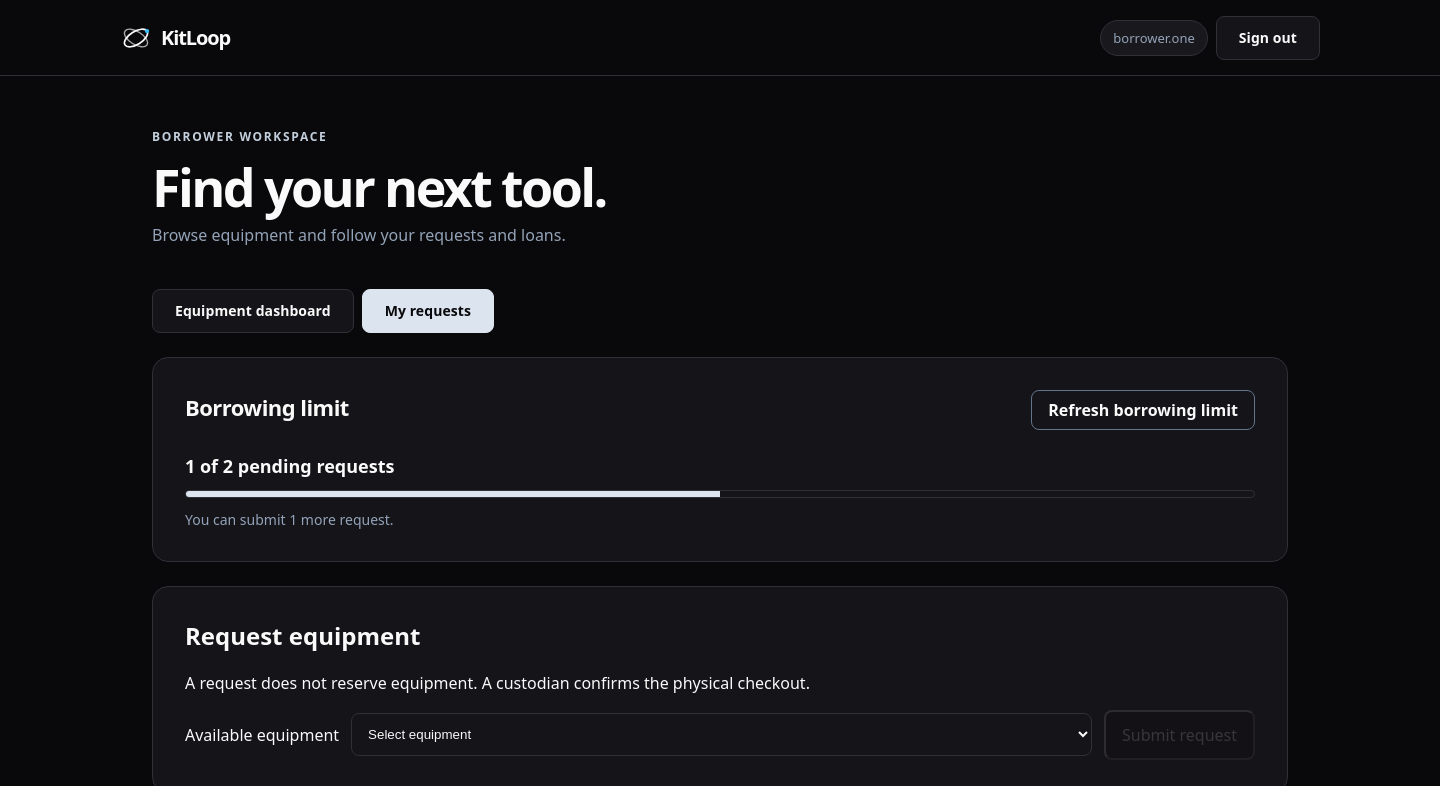
it: CR-01 pending-request quota UI (AC11 / TC11) › Q06 AC11-S6: a stale-state 409 BORROWING_QUOTA_EXCEEDED shows the server message and re-reads quota, catalog, requests and loans
The image size is (1440, 786).
Select "Camera · CAM-01" in the dropdown labelled "Available equipment". click: (722, 735)
box: [351, 713, 1092, 756]
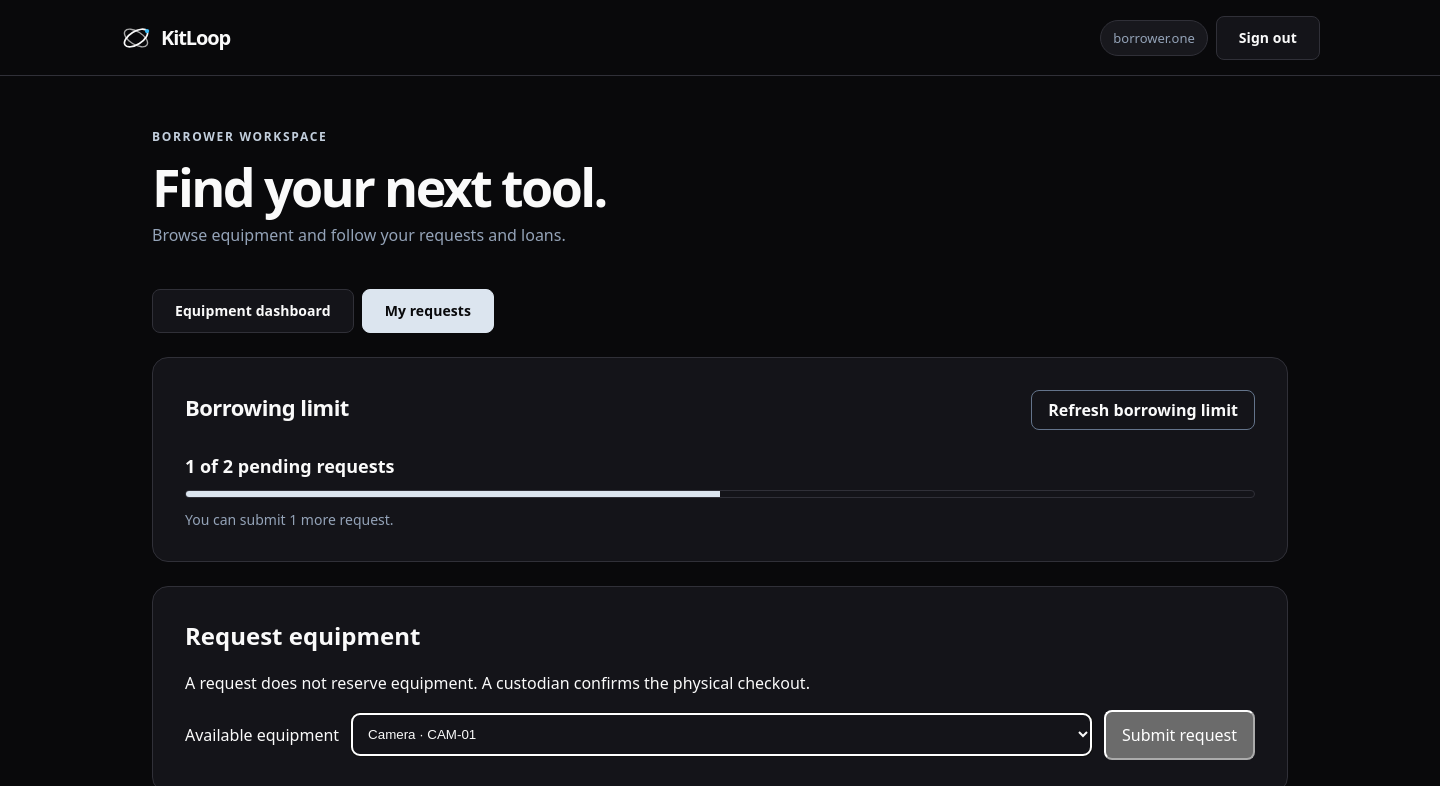
expect the button "Submit request" is enabled: met
Click the button "Submit request". click: click(1180, 735)
box: [1104, 710, 1255, 760]
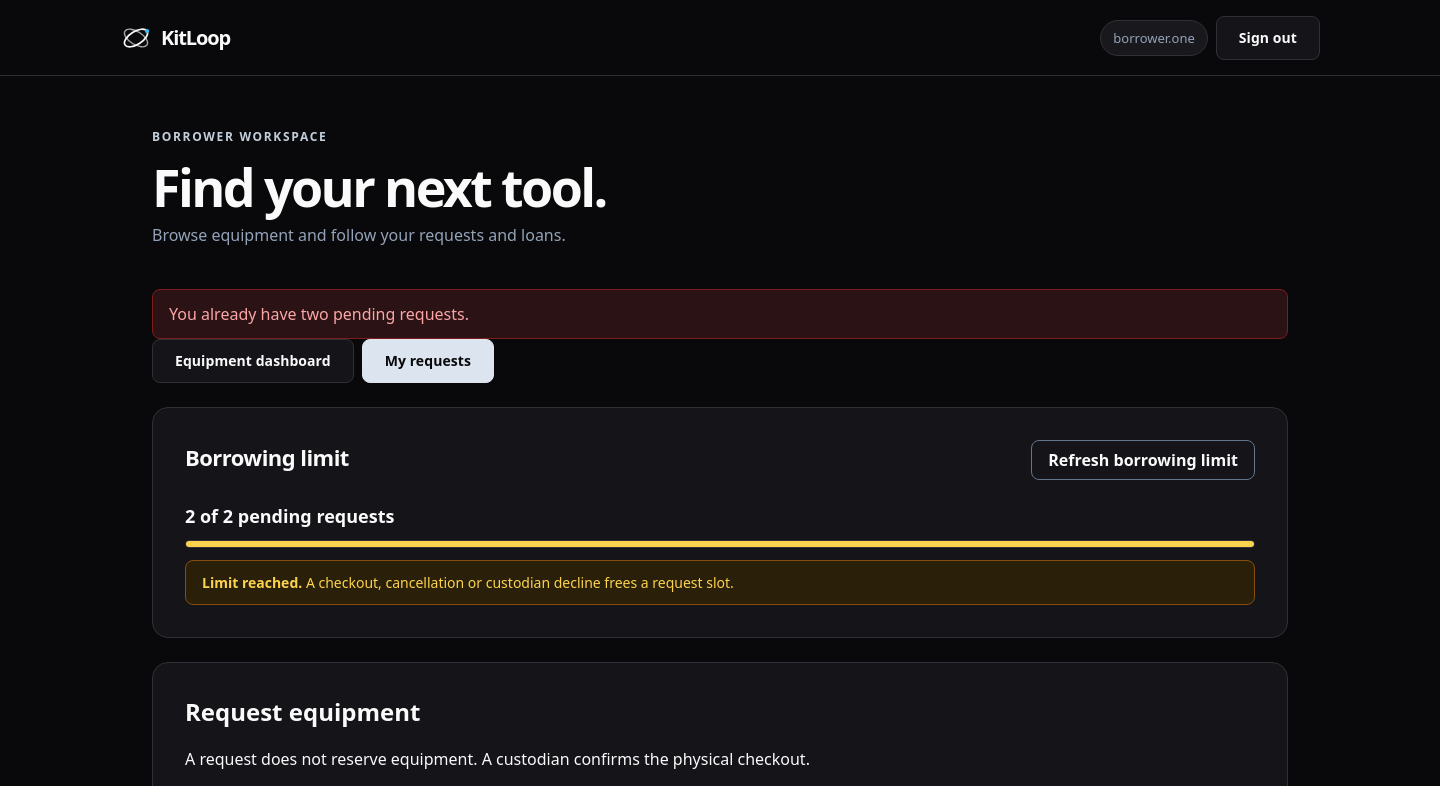
expect the text "You already have two pending requests." is shown: met, box [152, 289, 1288, 339]
expect the text "2 of 2 pending requests" is shown: met, box [185, 504, 394, 528]
expect the text "Limit reached." is shown: met, box [202, 573, 302, 592]
